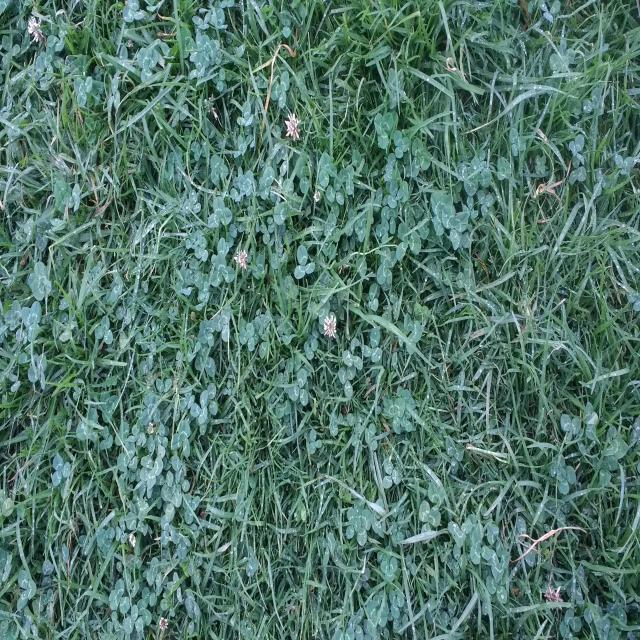Four Leaf Clover: (376, 247, 397, 285)
